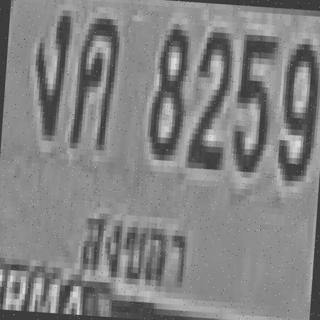A04: (68, 11, 120, 145)
A07: (29, 2, 70, 136)
N02: (185, 25, 232, 164)
N05: (229, 28, 276, 173)
N08: (146, 16, 190, 156)
N09: (274, 37, 318, 176)
P64: (73, 197, 198, 299)
